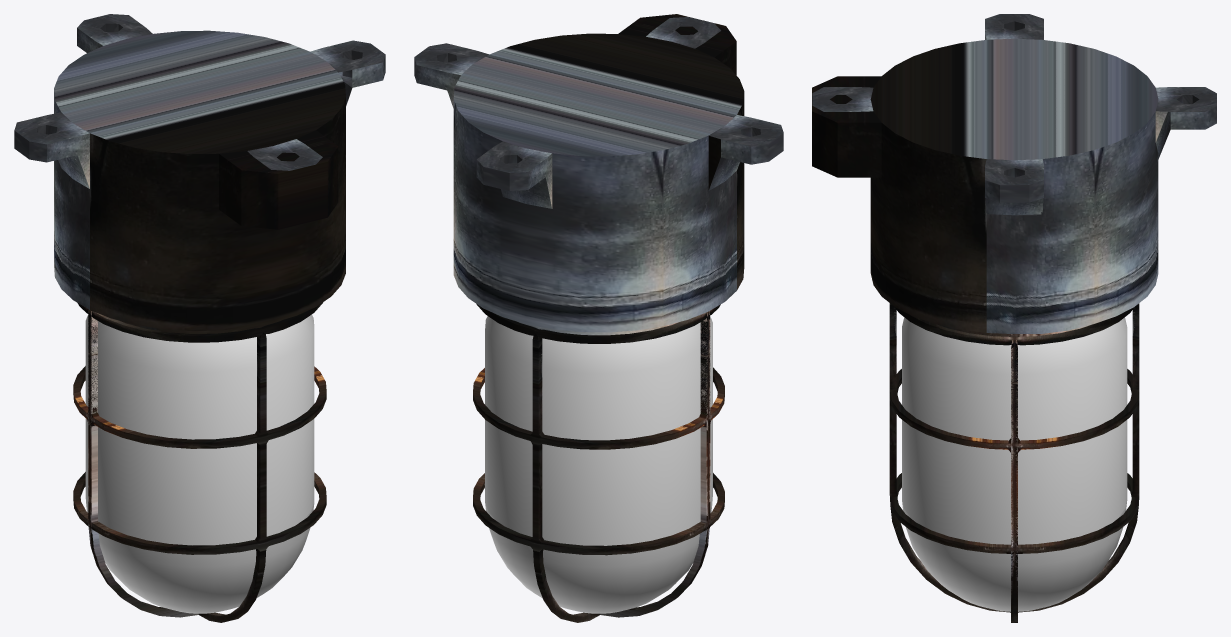
Rendered from Industrial_lamp.fbx.
The picture shows the model from 3 angles, left to right: view 1: azimuth 30°, elevation 25°; view 2: azimuth 150°, elevation 25°; view 3: azimuth 270°, elevation 25°; orthographic projection.
Parts seen in each view (by area): view 1: Cylinder, Sphere, Circle, Cylinder.001; view 2: Cylinder, Sphere, Circle, Cylinder.001; view 3: Cylinder, Sphere, Circle, Cylinder.001.
Part boxes in pixels (<box>): Cylinder: <box>54,30,345,333</box>; Sphere: <box>85,314,314,613</box>; Circle: <box>73,302,326,622</box>; Cylinder.001: <box>14,14,385,188</box>; Cylinder: <box>453,14,744,335</box>; Sphere: <box>485,316,712,613</box>; Circle: <box>473,304,724,622</box>; Cylinder.001: <box>414,17,783,208</box>; Cylinder: <box>812,38,1158,337</box>; Sphere: <box>902,317,1127,611</box>; Circle: <box>889,303,1139,622</box>; Cylinder.001: <box>812,14,1216,215</box>.
Bounding box in the file's own units: 10.54 × 14.72 × 10.55.
3 materials, 1 textured.
